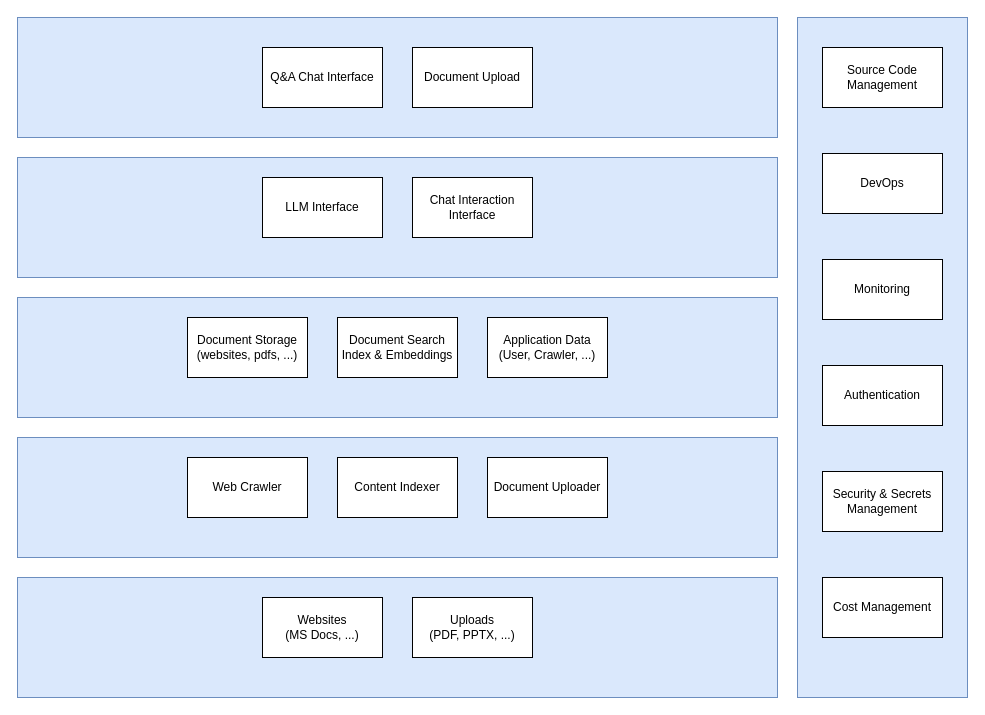
Image size: 985x715. Some labels were removed from this diagram. The box of each missing label's shape, as (x1, y1, x2, y2) in pixels:
Data Management & Search Indices: (16, 296, 778, 418)
Ingest Processing & Integration: (16, 436, 778, 558)
Platform Services: (796, 16, 968, 698)
Processing & Logic Execution: (16, 156, 778, 278)
Source Systems: (16, 576, 778, 698)
User Experience: (16, 16, 778, 138)
